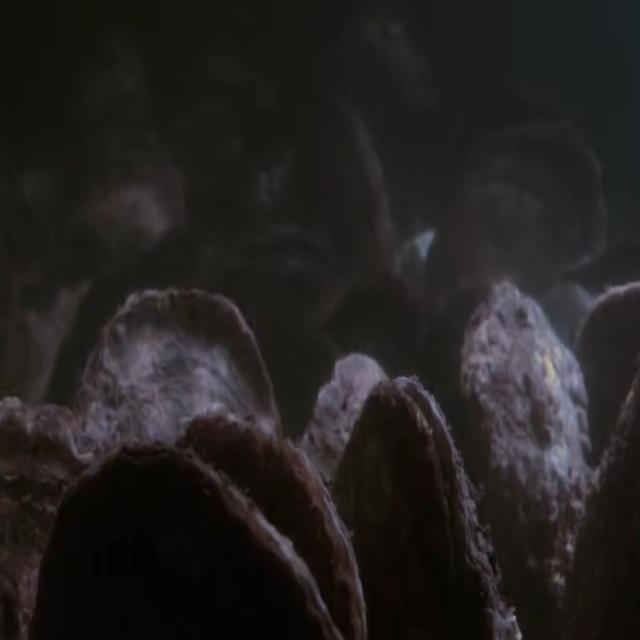Oyster-Closed: (32, 439, 342, 640), (172, 409, 367, 640), (0, 393, 105, 640)
Oyster-Indeterminate: (70, 289, 280, 640), (457, 280, 592, 640), (422, 120, 608, 339), (293, 351, 392, 640), (288, 90, 399, 289), (56, 138, 189, 282), (572, 279, 640, 502)
Oyster-Open: (331, 374, 520, 640), (215, 221, 338, 325)
